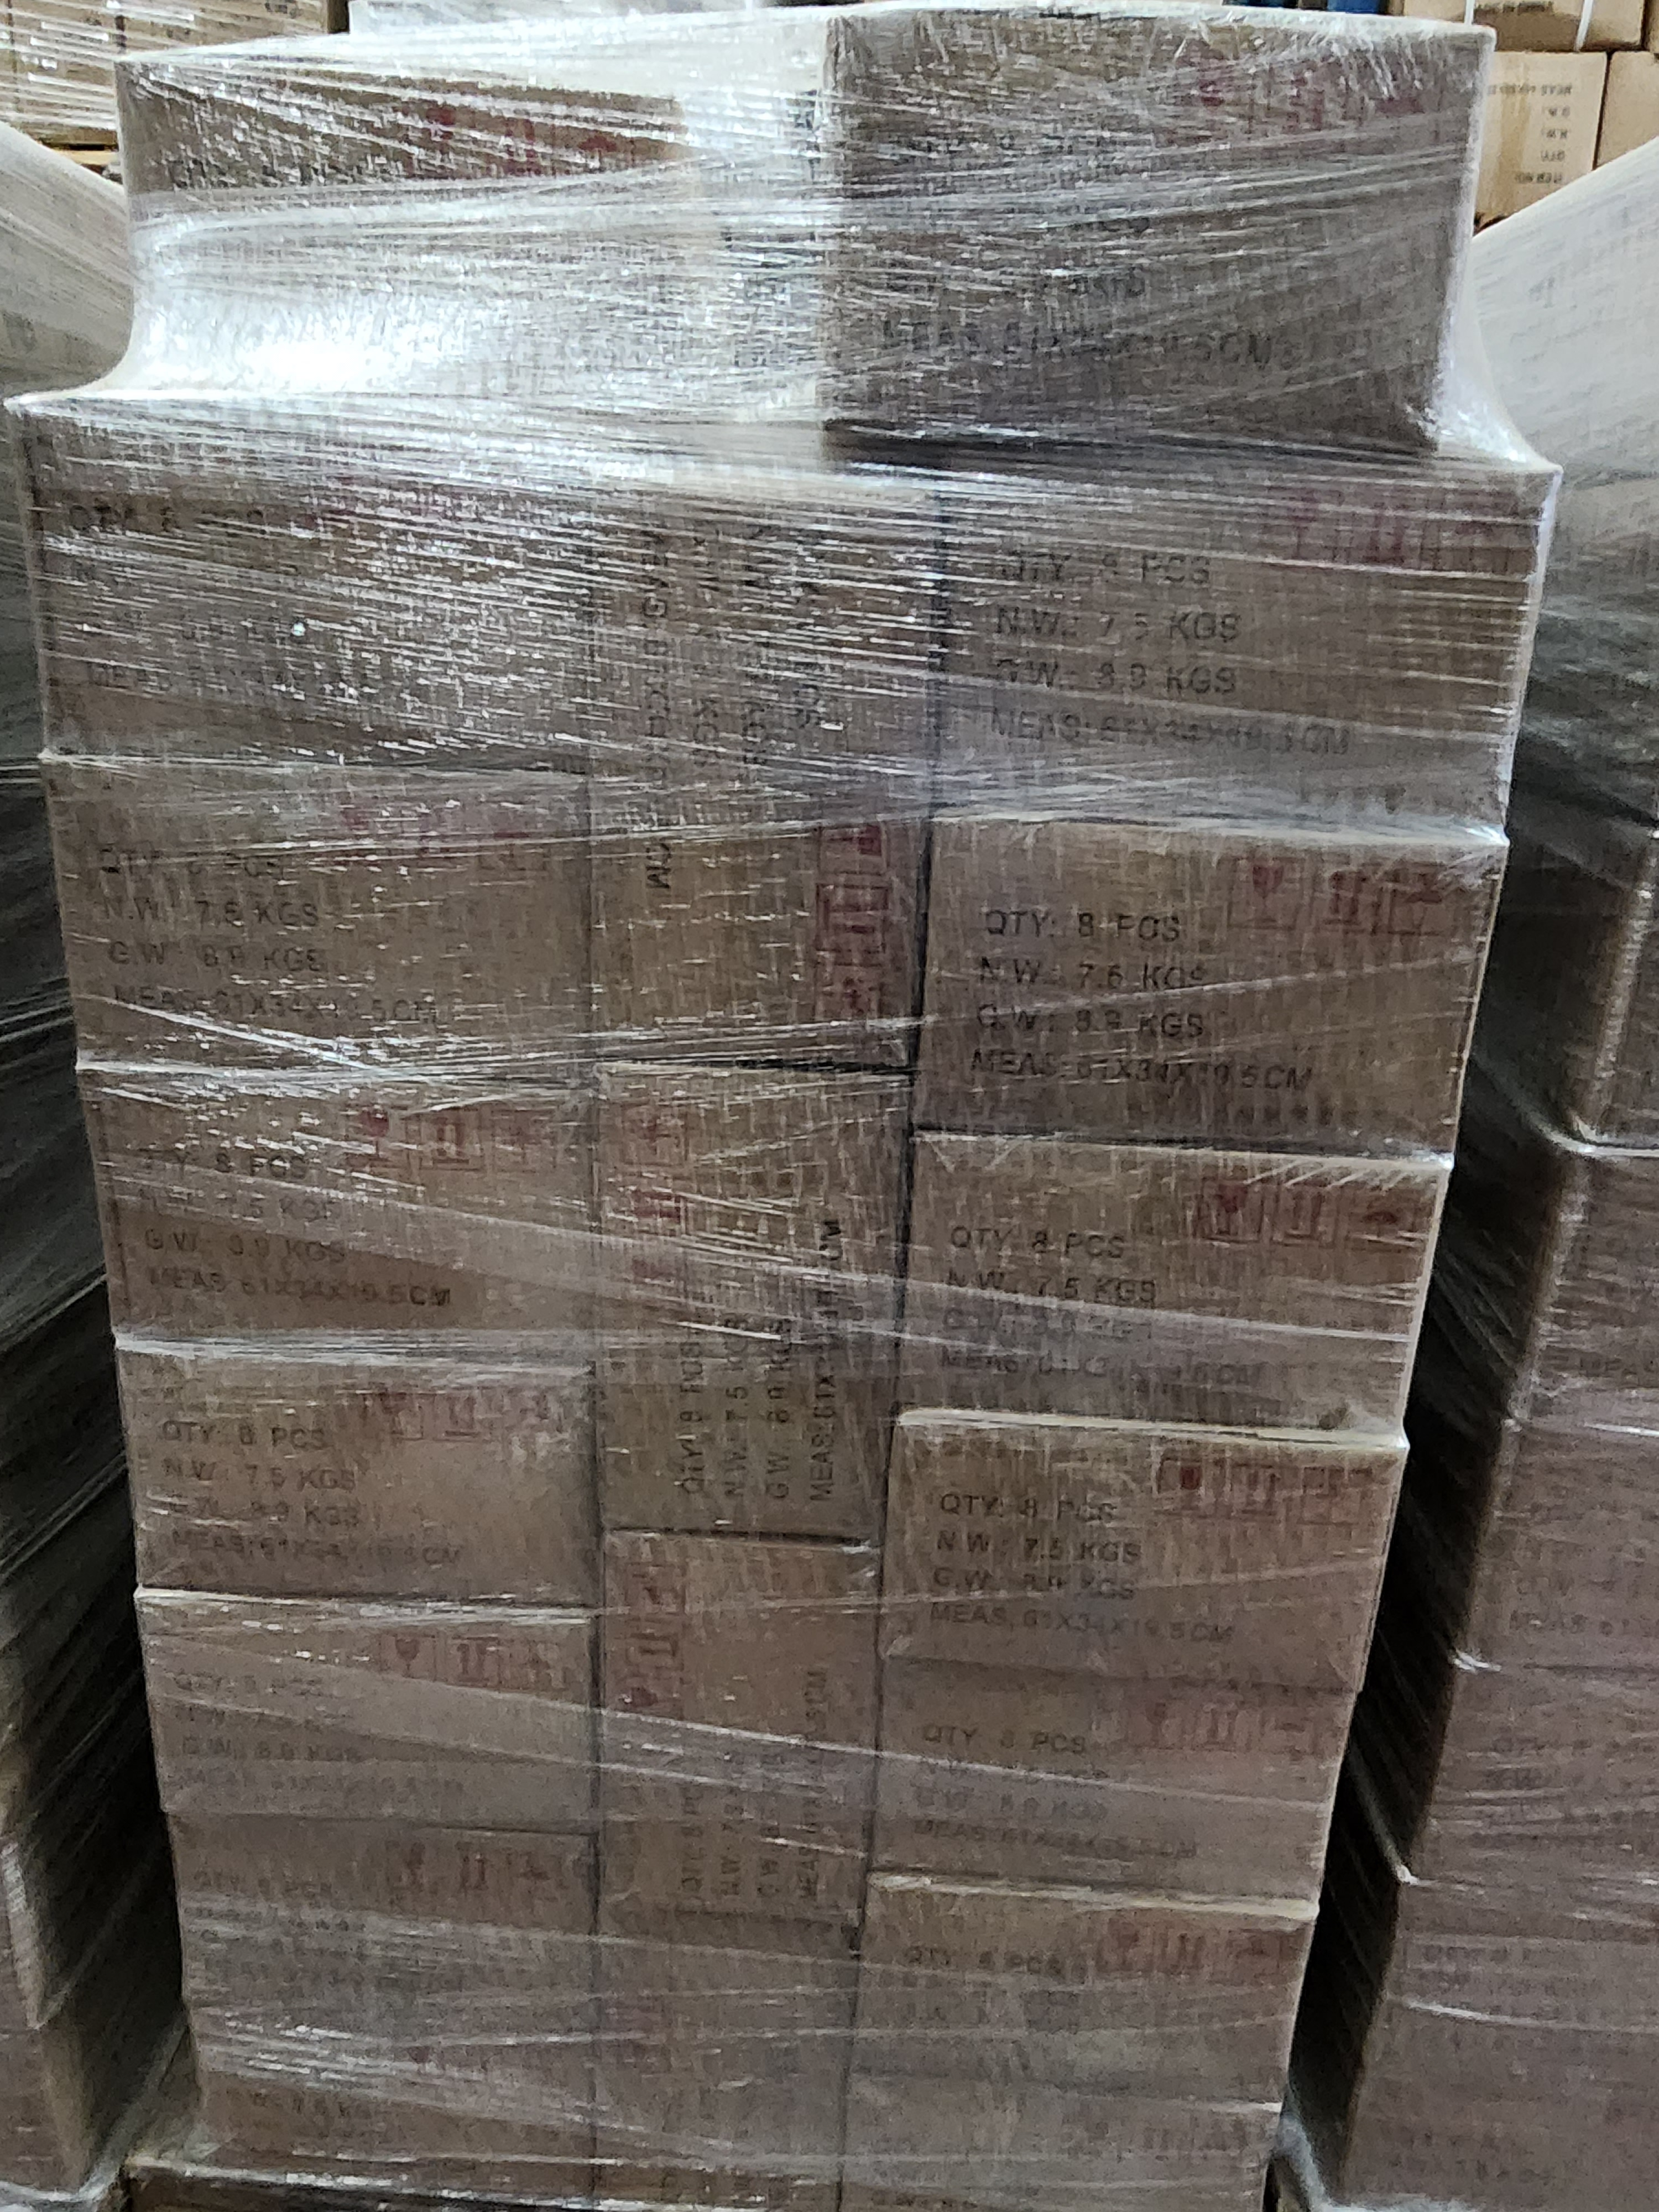box: (817, 3, 1514, 442), (929, 451, 1549, 840), (7, 401, 606, 787), (945, 798, 1500, 1162), (910, 1103, 1459, 1458), (24, 754, 587, 1080), (892, 1383, 1403, 1702), (61, 1050, 596, 1350), (84, 1327, 617, 1616), (89, 1581, 629, 1857), (854, 1642, 1371, 1916), (591, 1503, 892, 1951), (854, 1848, 1345, 2114), (587, 455, 939, 806), (125, 1804, 622, 2052), (554, 768, 936, 1089), (591, 1042, 925, 1379), (134, 1973, 603, 2212), (592, 1890, 866, 2212), (591, 1301, 899, 1554)
